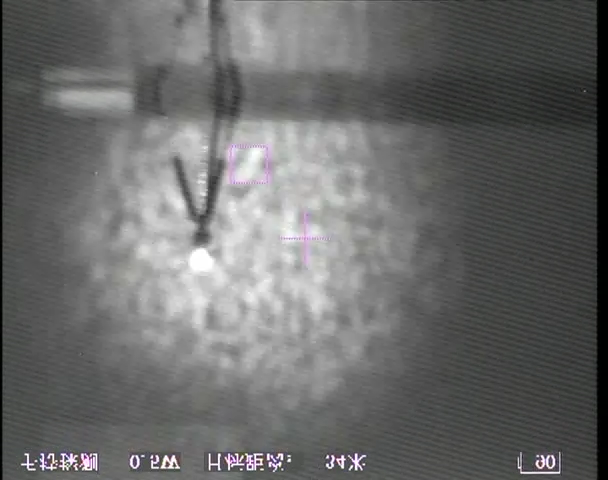my: (188, 247, 216, 276)
